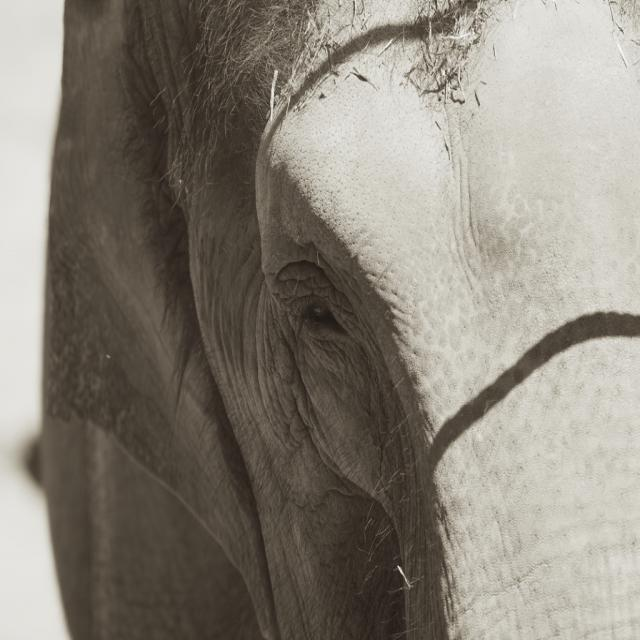Elephant: (0, 29, 622, 626)
